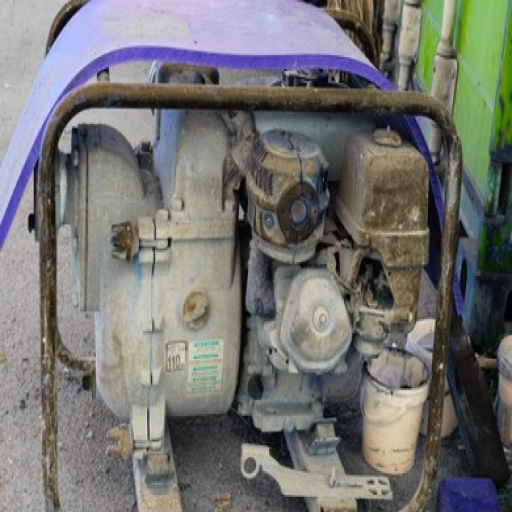portable_generator: (37, 1, 463, 512)
